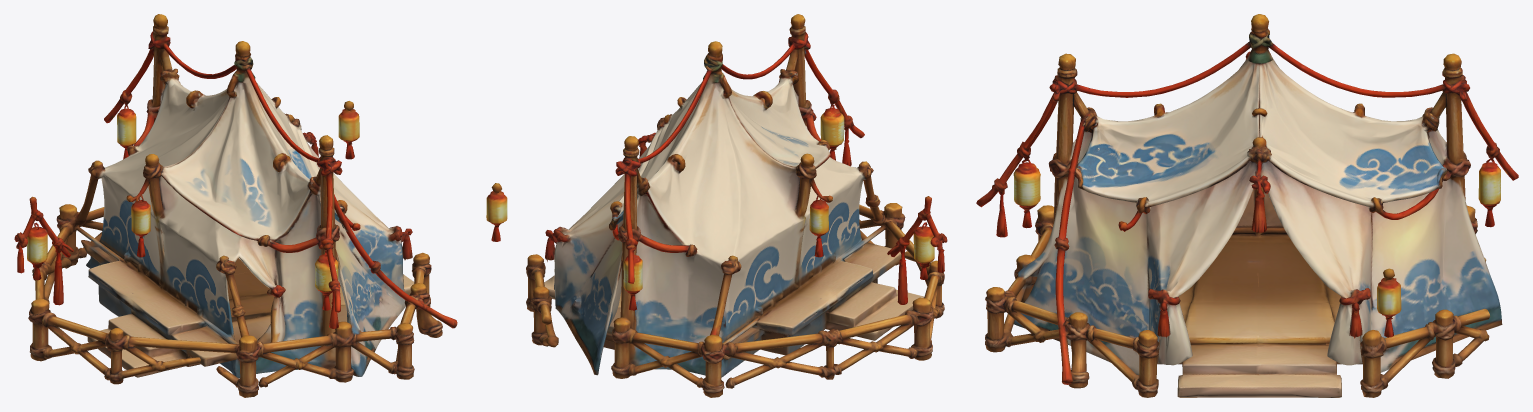
The model's file is ch05-beach-tent.glb.
3 renders of one model, left to right at view 1: azimuth 30°, elevation 25°; view 2: azimuth 150°, elevation 25°; view 3: azimuth 270°, elevation 25°, orthographic. The views are drawn at different scales.
Parts seen in each view (by area): view 1: tripo_node_97a10937-70bd-4d67-8845-6f6c23015304; view 2: tripo_node_97a10937-70bd-4d67-8845-6f6c23015304; view 3: tripo_node_97a10937-70bd-4d67-8845-6f6c23015304.
Part boxes in pixels (left/top/right/bottom): tripo_node_97a10937-70bd-4d67-8845-6f6c23015304: left=14, top=14, right=457, bottom=397; tripo_node_97a10937-70bd-4d67-8845-6f6c23015304: left=486, top=14, right=947, bottom=397; tripo_node_97a10937-70bd-4d67-8845-6f6c23015304: left=976, top=14, right=1518, bottom=397.
Bounding box in the file's own units: 0.9631 × 0.6144 × 0.9797.
Materials: 1 (1 with a texture image).
